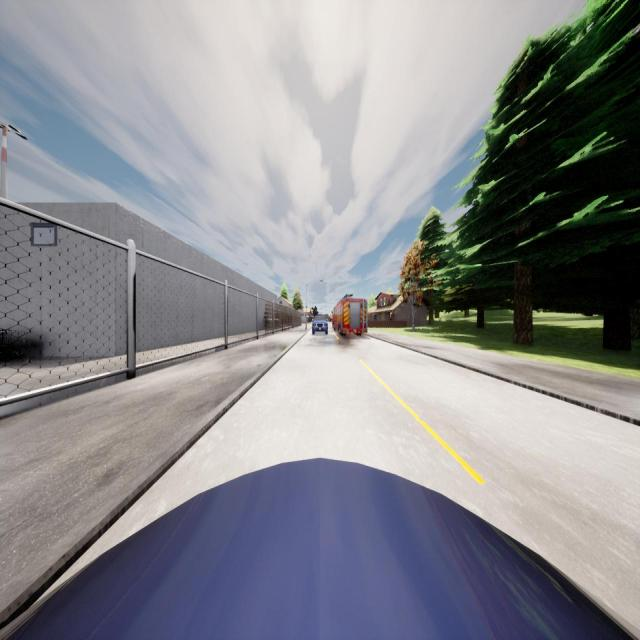Vehicle: (2, 460, 640, 640), (332, 294, 367, 334), (312, 314, 328, 335)
